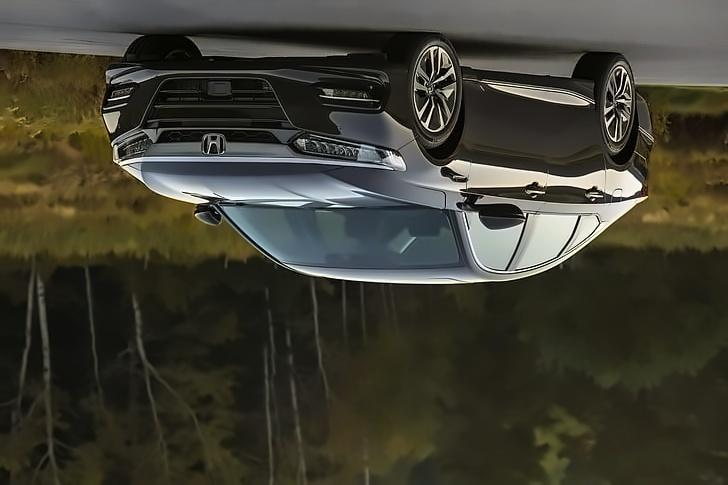Car hood: (117, 159, 447, 214)
Driver-s door - -F-R-: (453, 54, 555, 286)
Fender - -F-R-: (382, 69, 476, 206)
Fender - -R-R-: (590, 81, 656, 230)
Front bumper: (99, 55, 418, 154)
Headlight - -L-: (107, 133, 159, 166)
Headlight - -R-: (289, 129, 407, 172)
Passenger-s door - -R-R-: (503, 53, 611, 282)
Side bumper - -R-: (450, 52, 596, 123)
Side mirror - -L-: (193, 203, 222, 227)
Side mirror - -R-: (452, 199, 522, 233)
